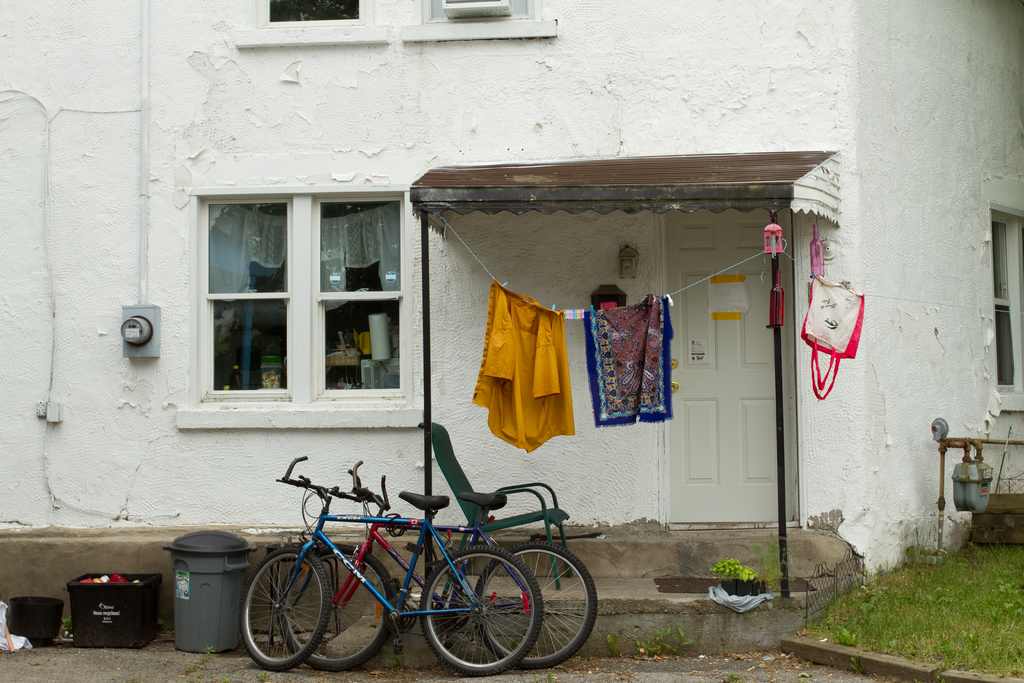door: (662, 225, 786, 514)
